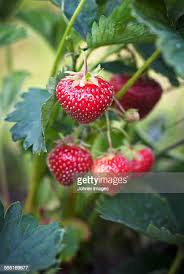ripe: (51, 67, 122, 128), (45, 137, 96, 193), (110, 69, 165, 117), (90, 149, 137, 203), (112, 139, 162, 186)
